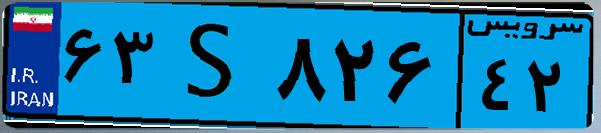2: (330, 28, 385, 110), (525, 38, 570, 115)
3: (110, 28, 158, 98)
4: (475, 38, 525, 113)
6: (385, 28, 445, 110), (57, 26, 110, 100)
8: (270, 28, 330, 110)
S: (158, 12, 270, 120)
